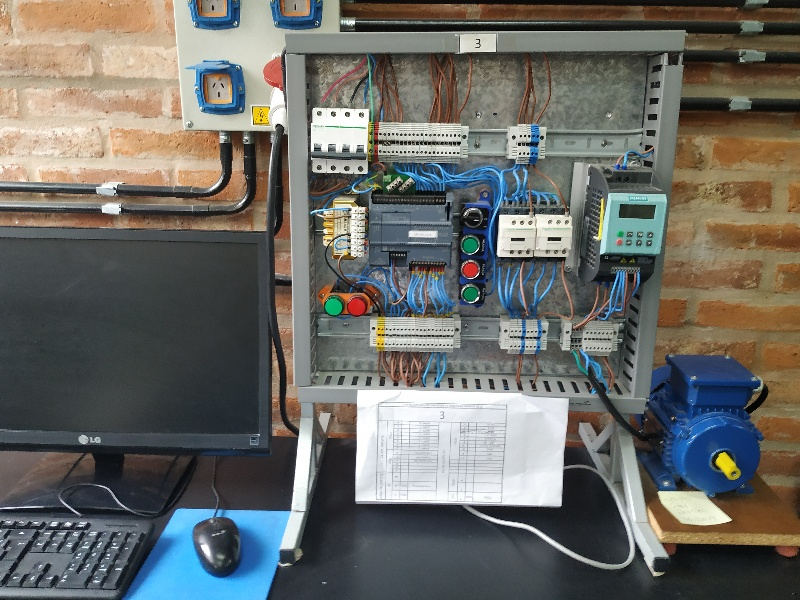Tablero 3: (301, 47, 667, 400)
